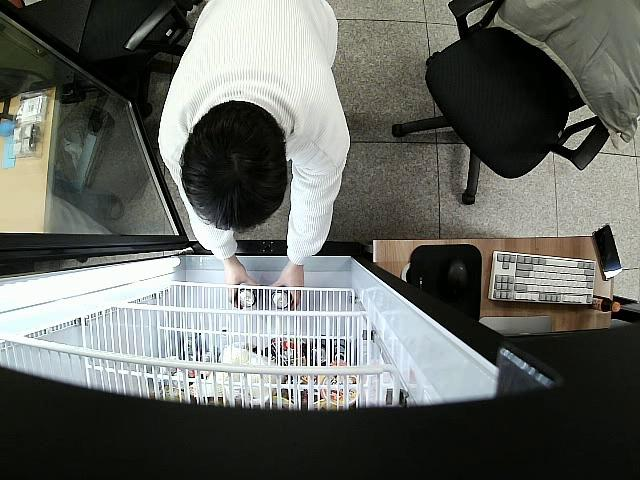00_hand: (267, 269, 305, 311), (223, 264, 257, 305)
14_welchsGrape: (233, 285, 259, 310), (270, 287, 295, 309)
